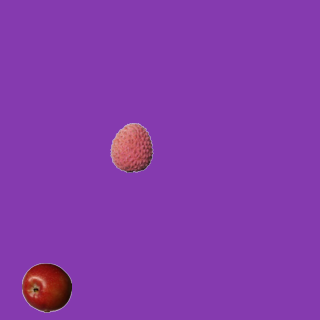Apple Braeburn: (21, 262, 71, 312)
Lychee: (106, 122, 156, 172)
